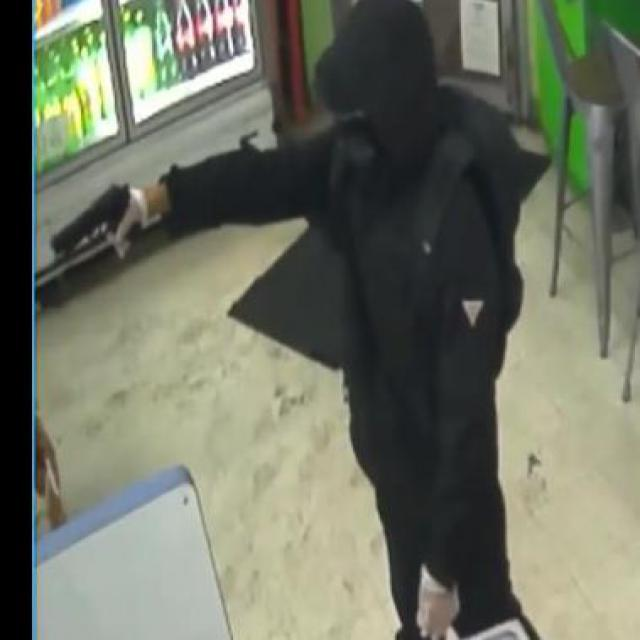Gun: (49, 178, 149, 254)
